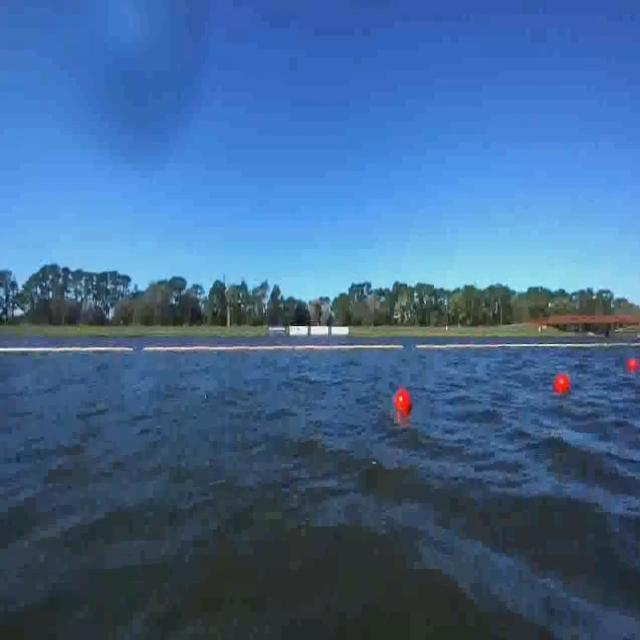red-buoy: (555, 372, 572, 394), (397, 391, 412, 414), (627, 359, 639, 372)
